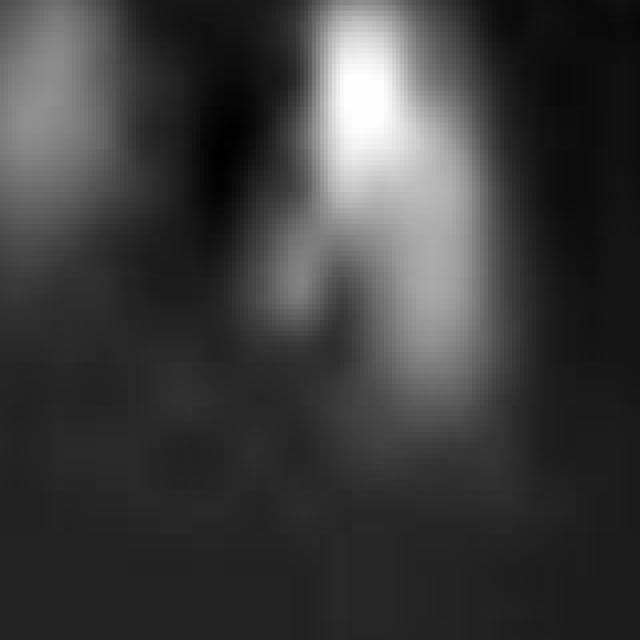person: (261, 1, 501, 412), (1, 1, 149, 316)
